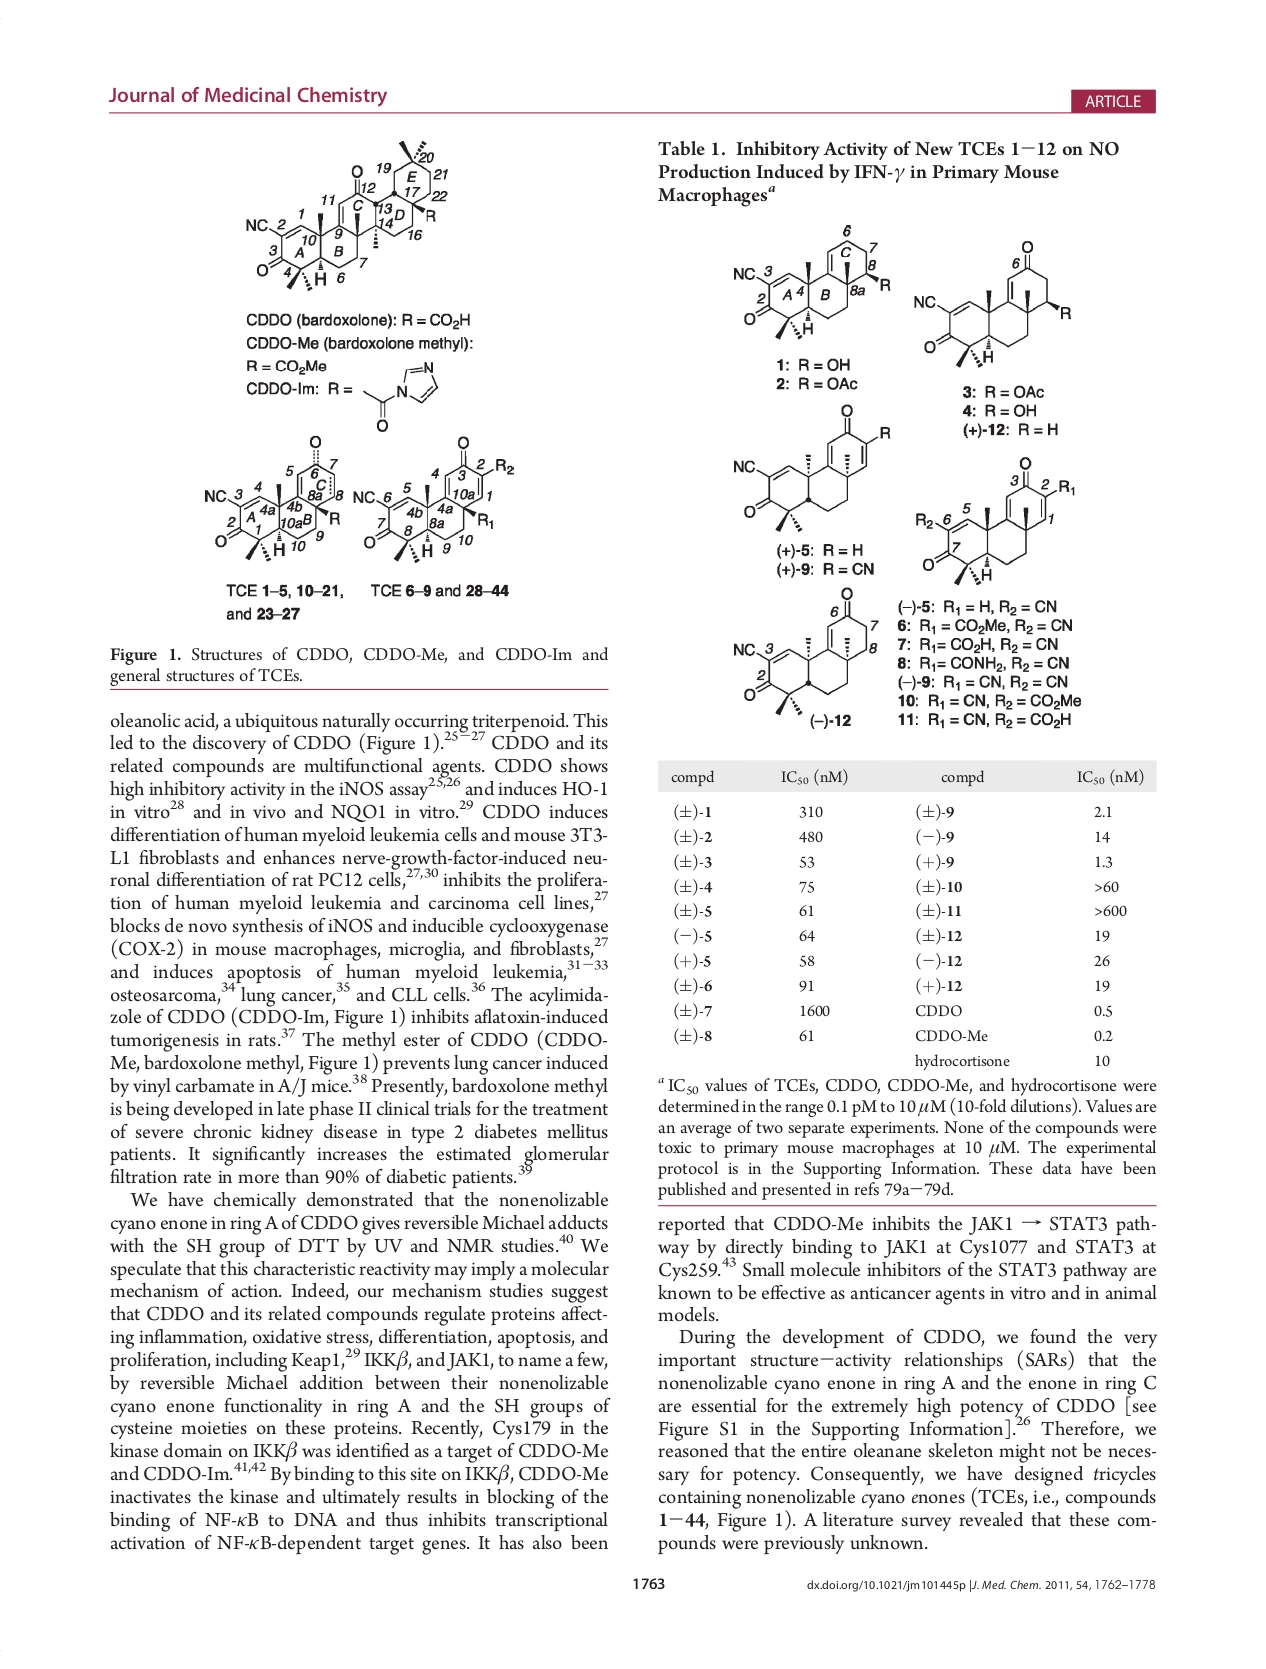exist_molecular: (243, 140, 438, 291), (914, 455, 1076, 586), (351, 434, 515, 564), (731, 403, 892, 532), (912, 239, 1072, 368), (201, 431, 340, 563), (731, 585, 870, 715), (730, 239, 894, 340), (360, 356, 440, 434)
